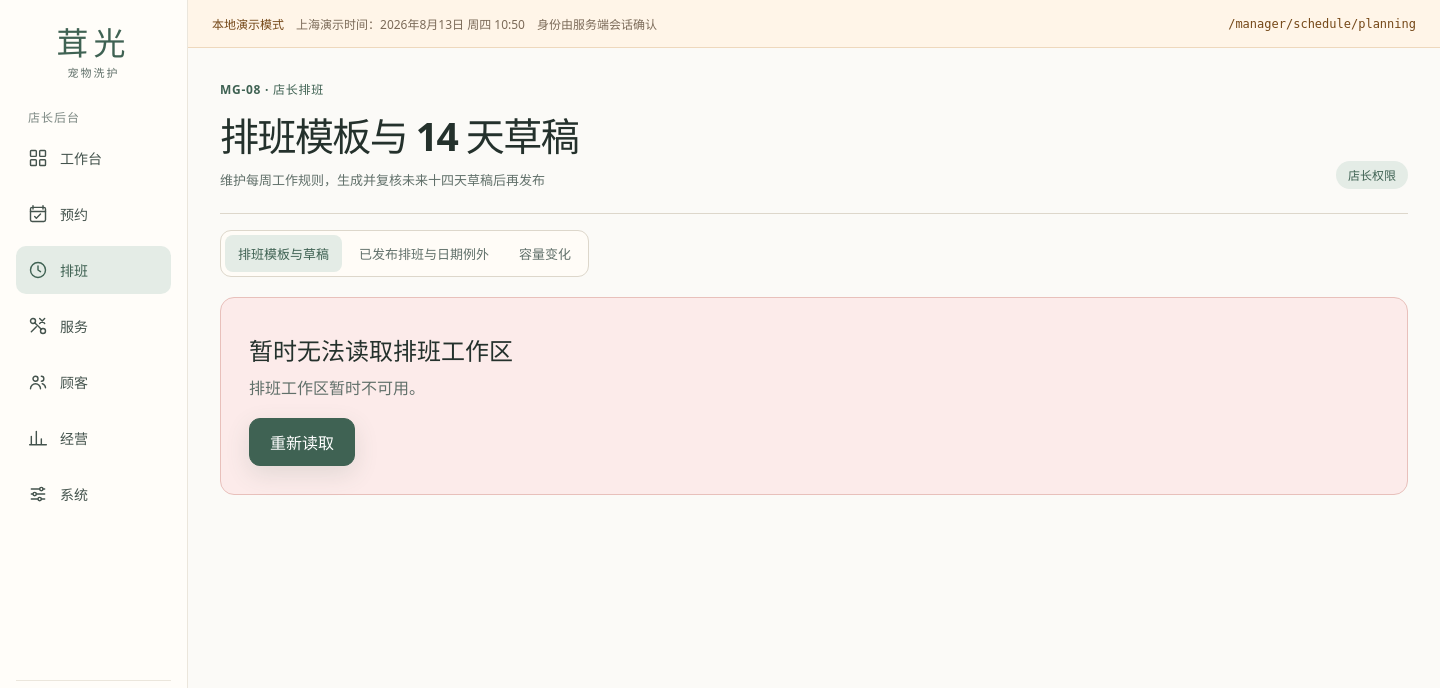
Test: MG-08 排班模板与十四天草稿页面 › 首次查询失败时提供原位重试并恢复工作区
The width and height of the screenshot is (1440, 688).
Expected: the heading "暂时无法读取排班工作区" is shown, [249,334,513,367]
Click the button "重新读取": {"x": 302, "y": 442} [249,418,355,466]
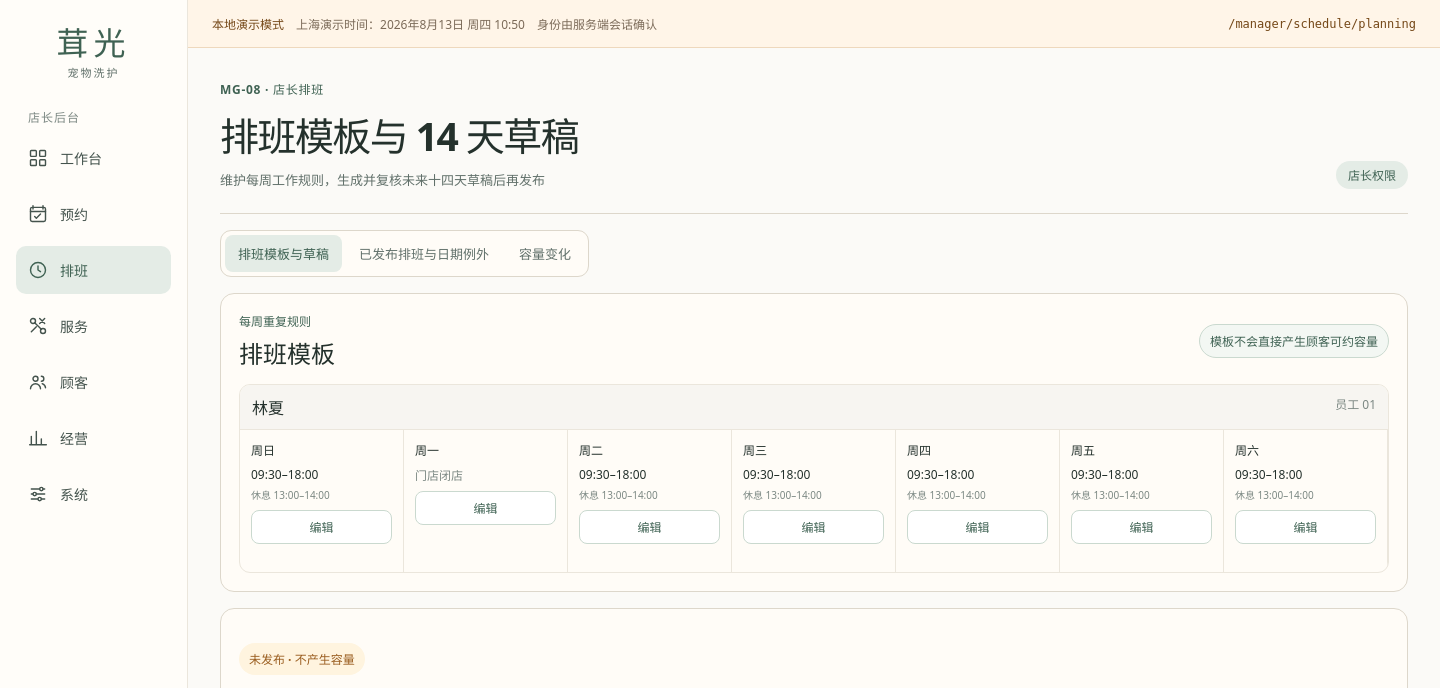
Expected: the heading "排班模板" is shown, [239,335,335,370]
